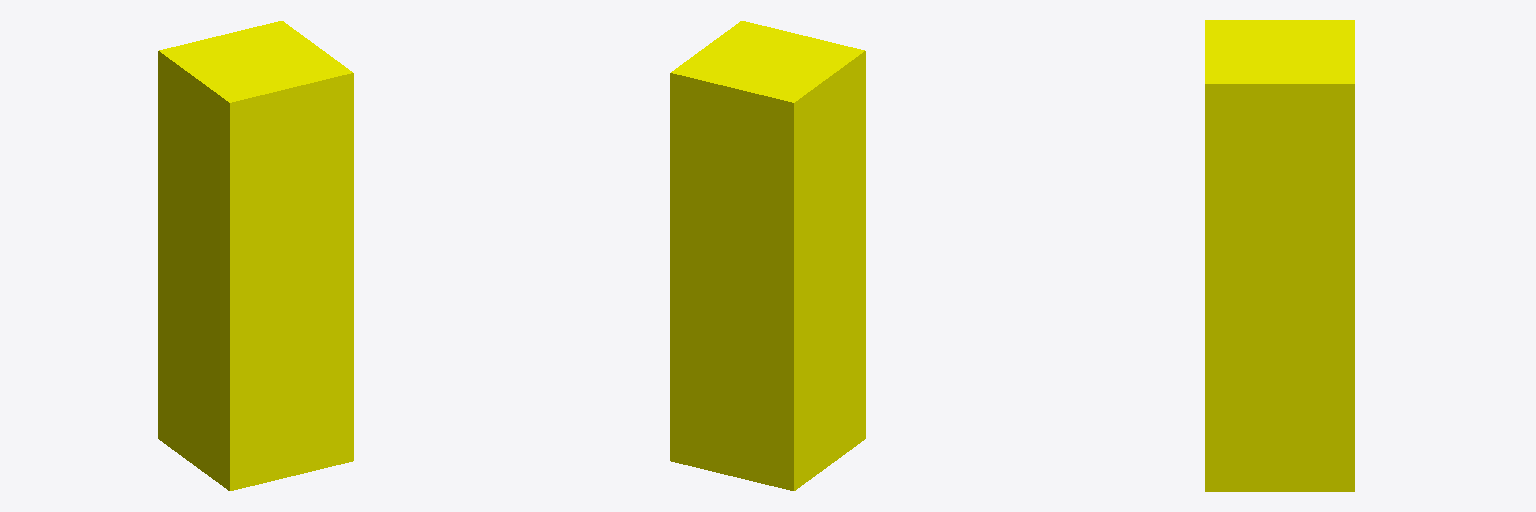
The robot description file, URDF, robot "objects":
<?xml  version="1.0"?>
<robot name ="objects"> 
    <!-- Author: [author]; e-mail:[email redacted]. The urdf file was develped in tongji university.-->

    <!--create  color params-->
    <material name ="LightGrey">
        <color rgba="0.7 0.7 0.7 1.0"/>
    </material>

    <material name ="White">
        <color rgba="1 1 1 1.0"/>
    </material>

    <material name ="Green">
        <color rgba="0.1 0. 1.0 1.0"/>
    </material>

    <material name ="Yellow">
        <color rgba="1. 1. 0. 1.0"/>
    </material>

    <material name ="Orange">
        <color rgba="1. 0.38 0. 1.0"/>
    </material>

    <material name ="Blue">
        <color rgba="0.69 0.87 0.9 1.0"/>
    </material>

    <mass name ="table_mass">
        <mass value="1.0"/>
    </mass>

    <mass name ="cylander_mass">
        <mass value="2.0"/>
    </mass>



    <link  name ="World"/>

    <joint name="cylinder1_to_world" type="floating">
        <parent link="World"/>
        <child link="cylinder1"/>
        <origin xyz="0. 0. 0." rpy="0.0 0.0 0.0"/>
    </joint>

    <link name = "cylinder1">
        <contact>
            <lateral_friction value="0.05"/>
            <rolling_friction value="0.0"/>
            <contact_erp value="1.0"/>
        </contact>
        <visual>
            <origin  xyz="0.0 0.0 0.0" rpy="0.0 0.0 0.0"/>
            <geometry>
                <mesh filename = "meshes/square.stl"/>
            </geometry >
            <material name ="Yellow"/>
        </visual>
        <collision>
            <origin xyz="0.0 0.0 0.0" rpy="0.0 0.0 0.0"/>
            <geometry>
                <mesh filename ="meshes/square.stl"/>
            </geometry>
        </collision>
        <inertial>
            <mass value = "0.5"/>
            <inertia ixx="1" ixy="0.0" ixz="0.0" iyy="1" iyz="0.0" izz="1"/>
        </inertial>
    </link>
</robot>

--- Facts derived from the render (not from the file) ---
3 views of the same robot in one strip: view 1: azimuth 30°, elevation 25°; view 2: azimuth 150°, elevation 25°; view 3: azimuth 270°, elevation 25° (orthographic).
Robot: objects — 2 links, 1 joints (1 floating); root link World; default pose: every joint at zero.
Visible links, largest first — view 1: cylinder1; view 2: cylinder1; view 3: cylinder1.
Boxes of the visible links, x1,y1,x2,y2 form: cylinder1: (158,21,353,490); cylinder1: (670,21,865,490); cylinder1: (1205,20,1354,491).
Size in the robot's own frame: 0.1 by 0.1 by 0.3 metres.
1 mesh visuals loaded from 1 distinct referenced files (1 binary STL).